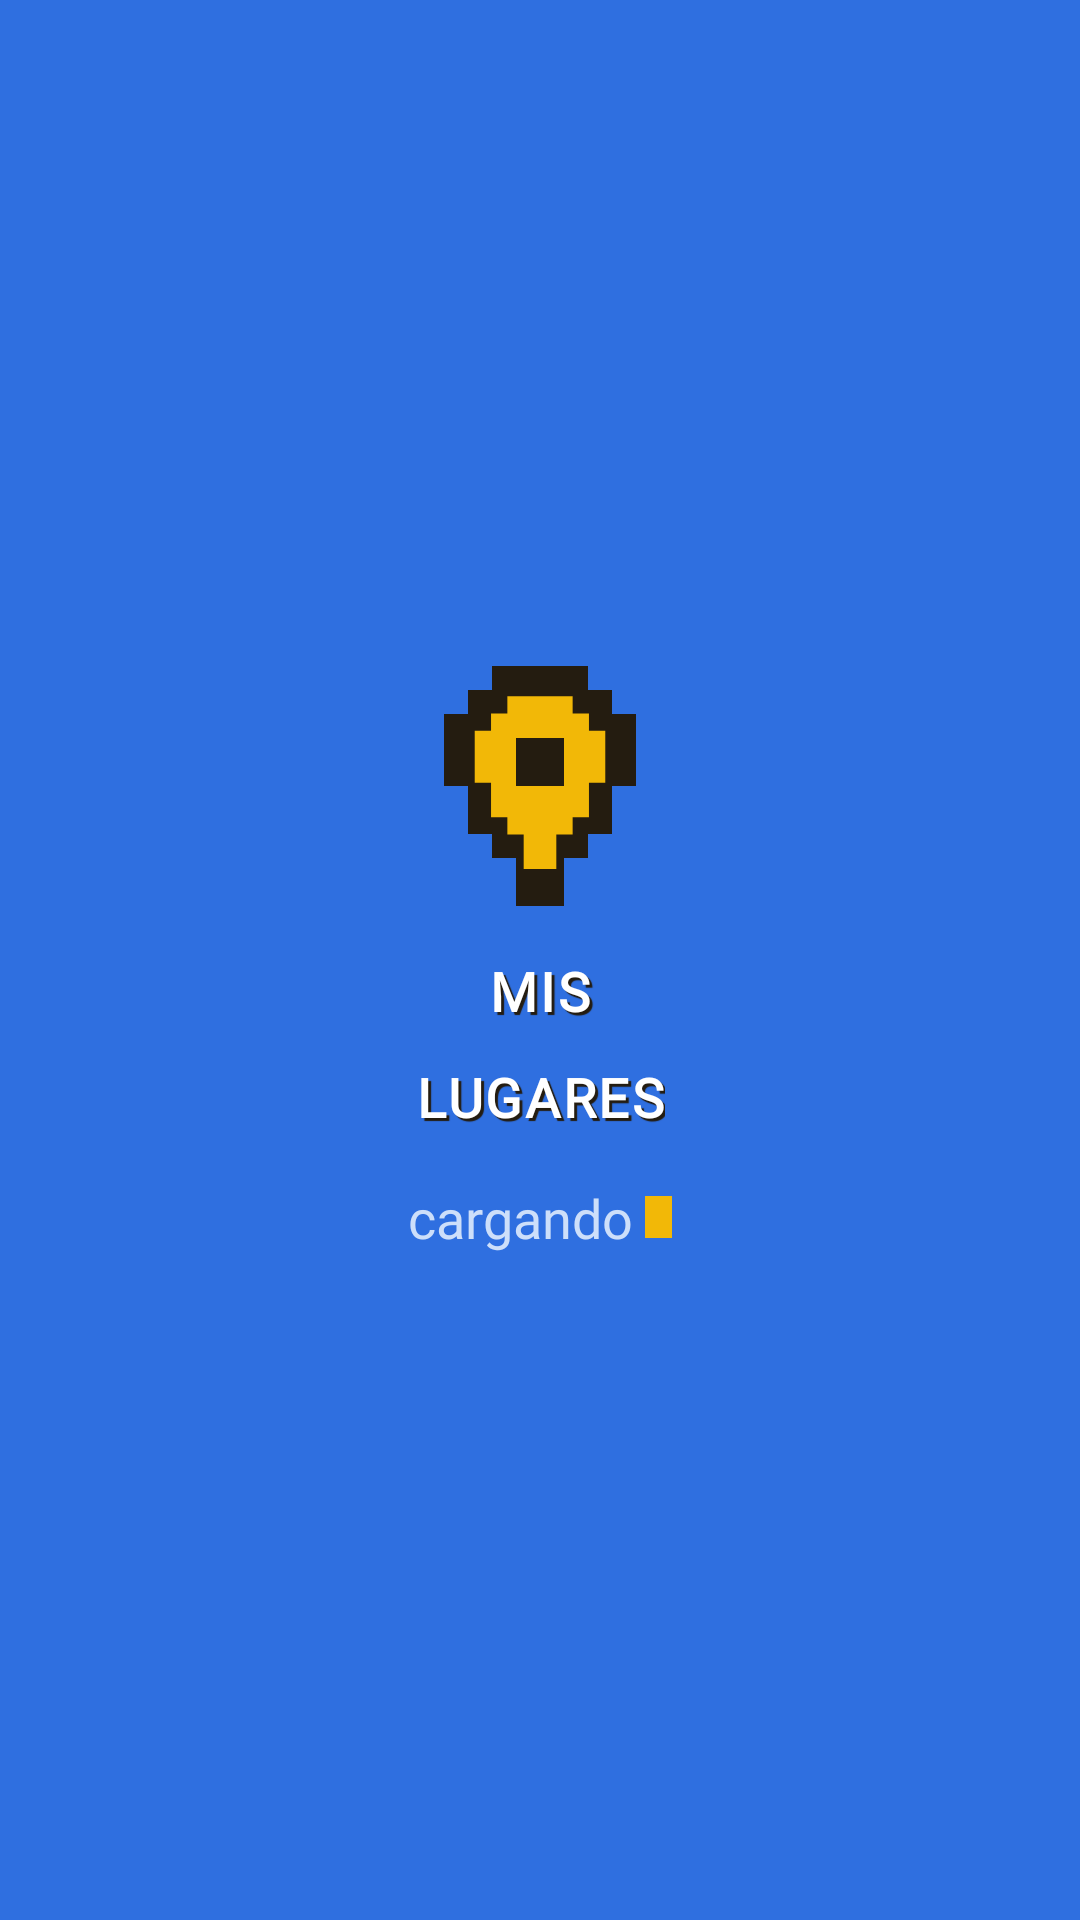

Icon click points for this 1080x1920 phone screenshot, format point (x, y):
pin amarillo: point (540, 786)
